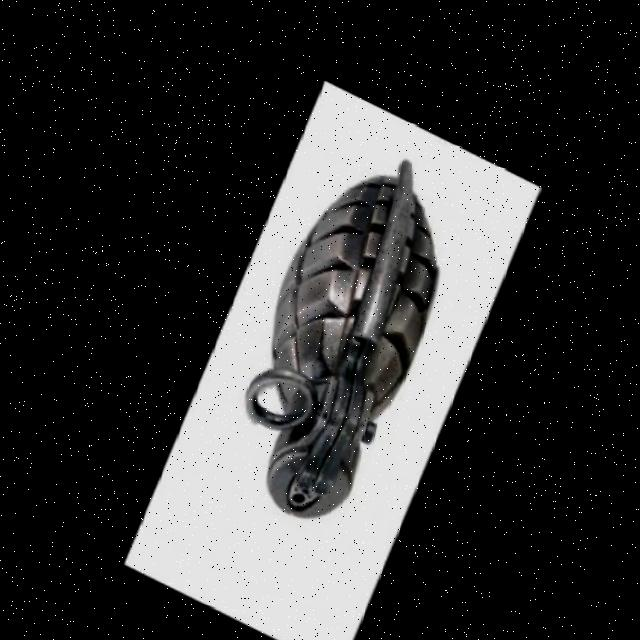grenade: (175, 81, 499, 574)
